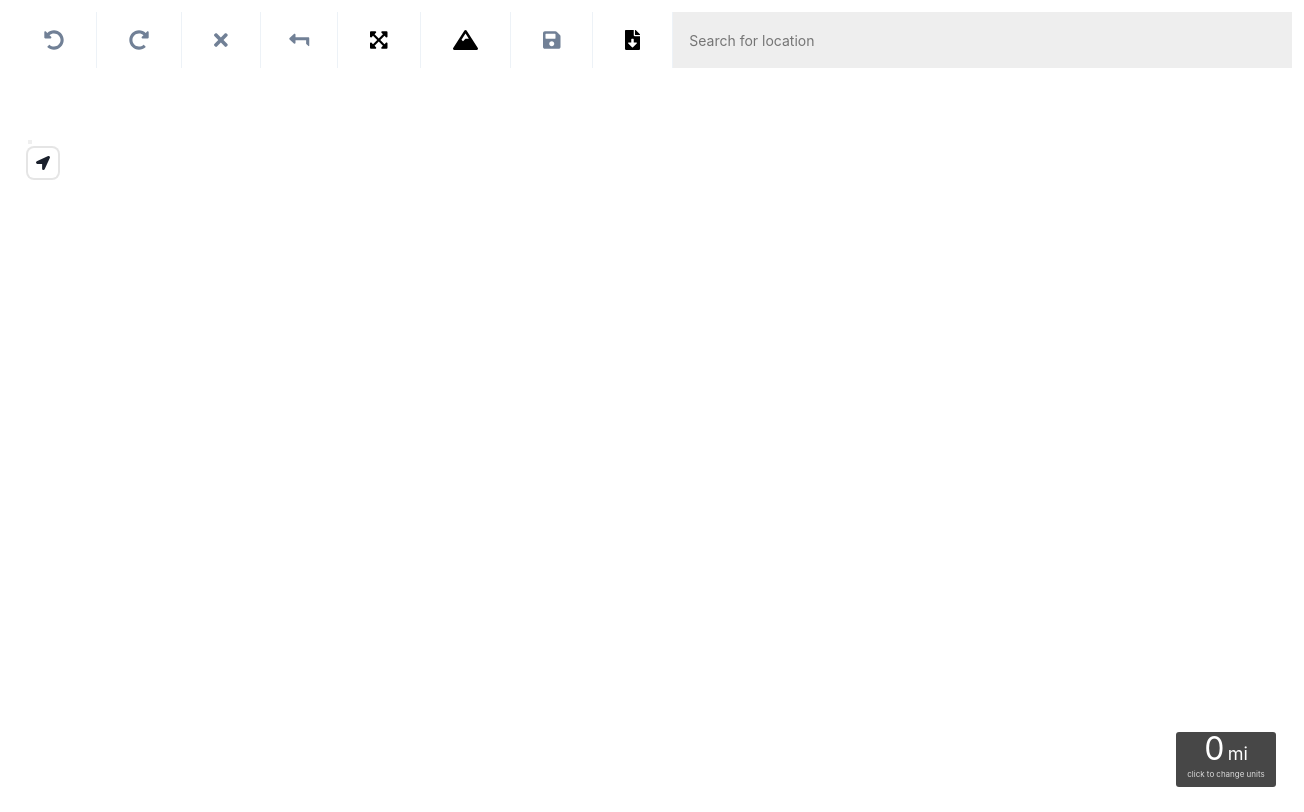
Test: <Map /> › clicking on elevation button toggles elevation chart
The width and height of the screenshot is (1304, 812).
Step 1. Click the button with test id "control-btn-elevation" → (466,40), box [421, 12, 511, 68]
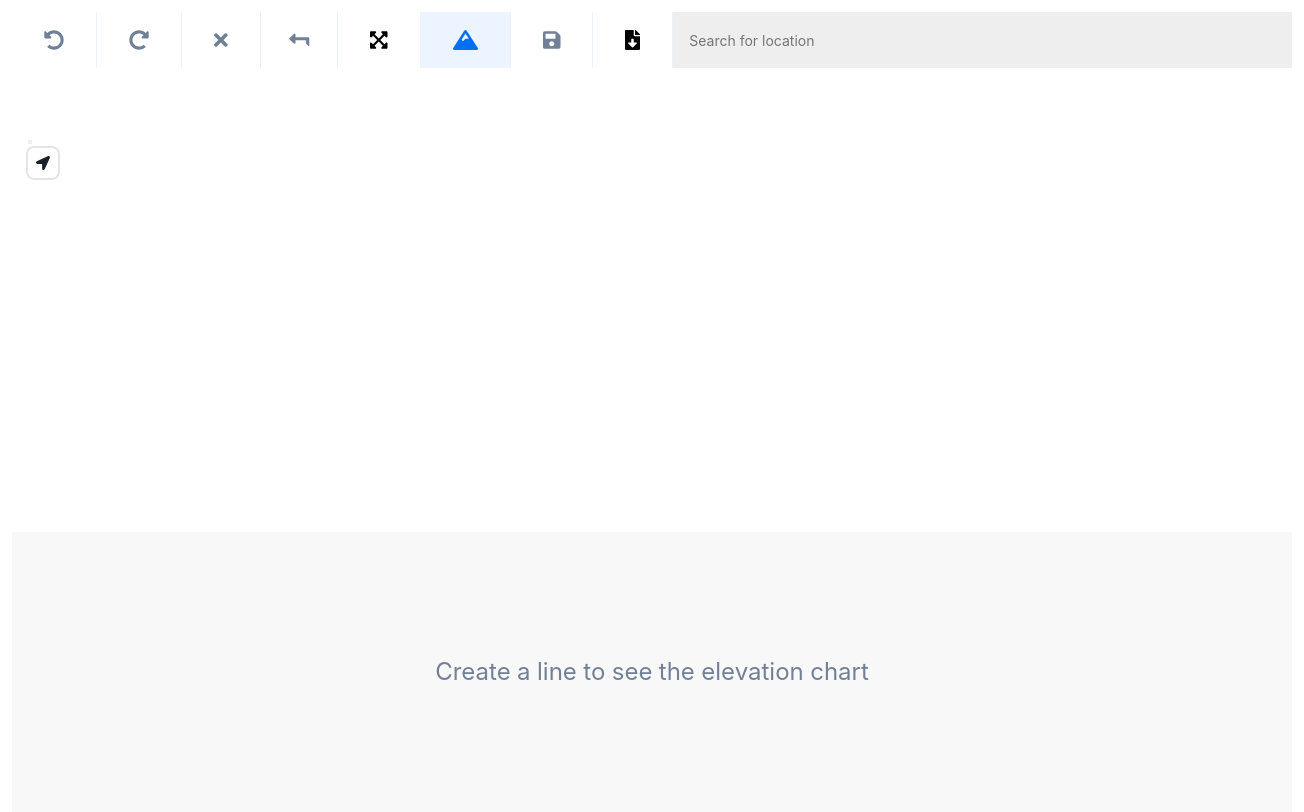
Expected: the text "Create a line to see the elevation chart" is shown, [435, 657, 869, 686]
Step 2. Click the button with test id "control-btn-elevation" → (466,40), box [421, 12, 511, 68]
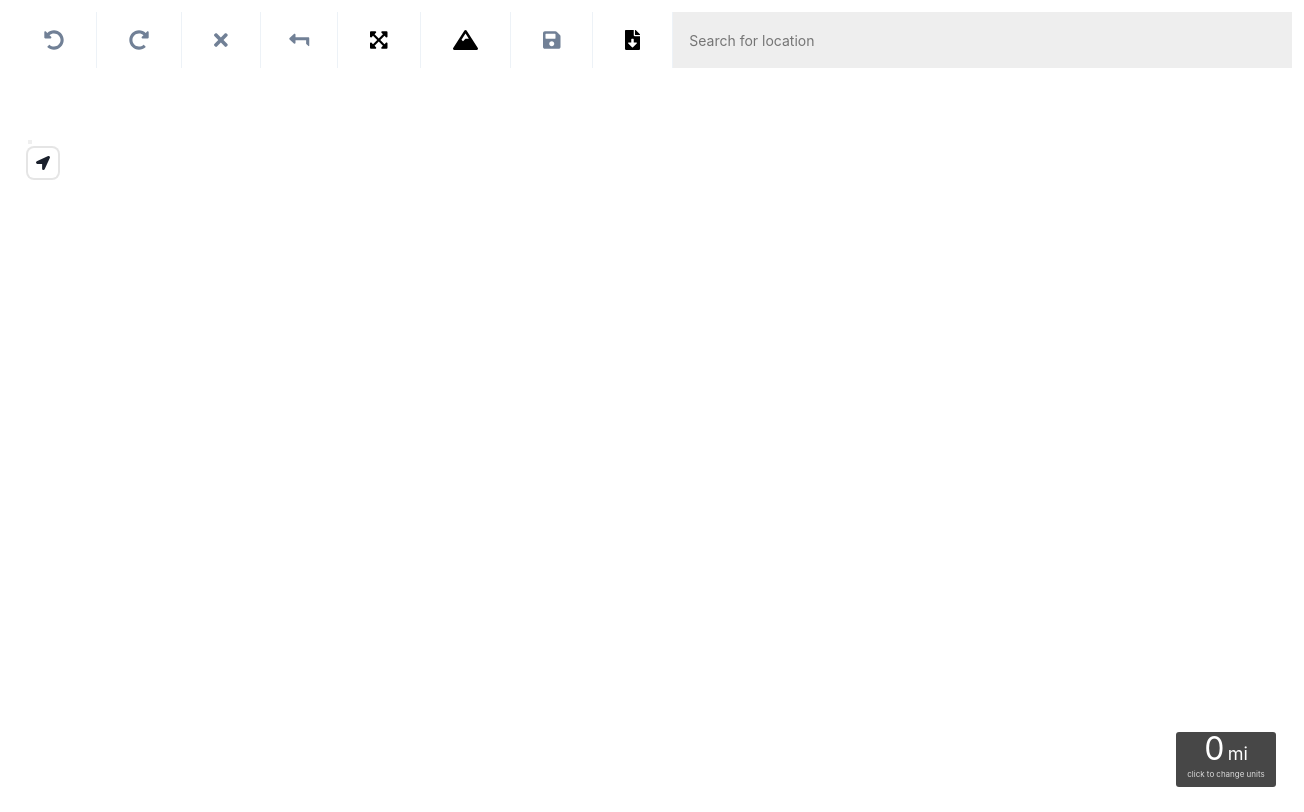
Expected: the text "Create a line to see the elevation chart" is gone
